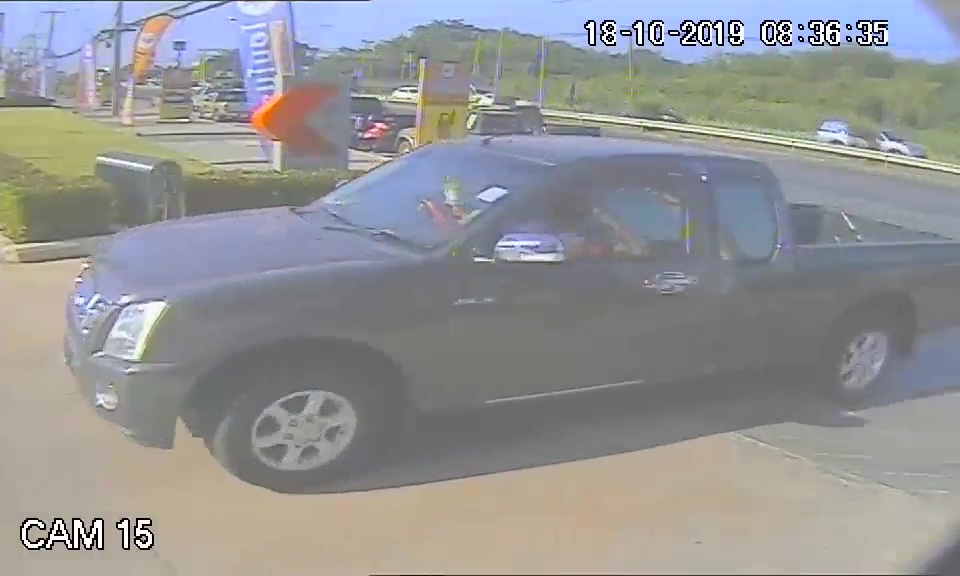pickup: (61, 133, 951, 482)
